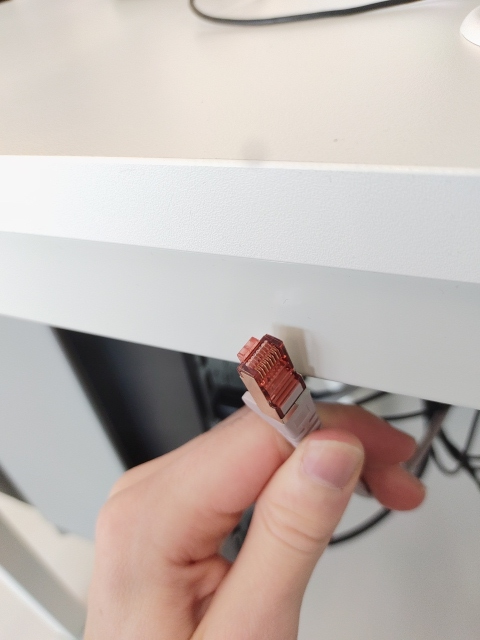Ethernet: (235, 333, 299, 399)
